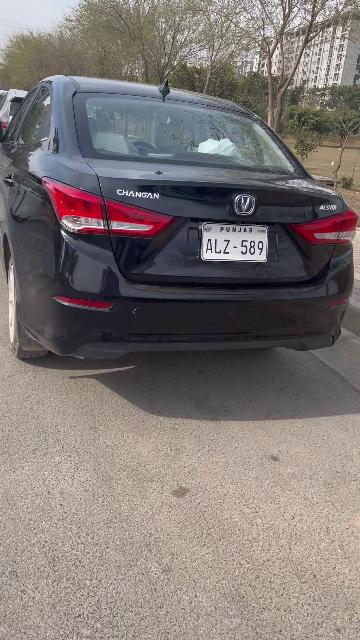plate: (203, 223, 269, 261)
